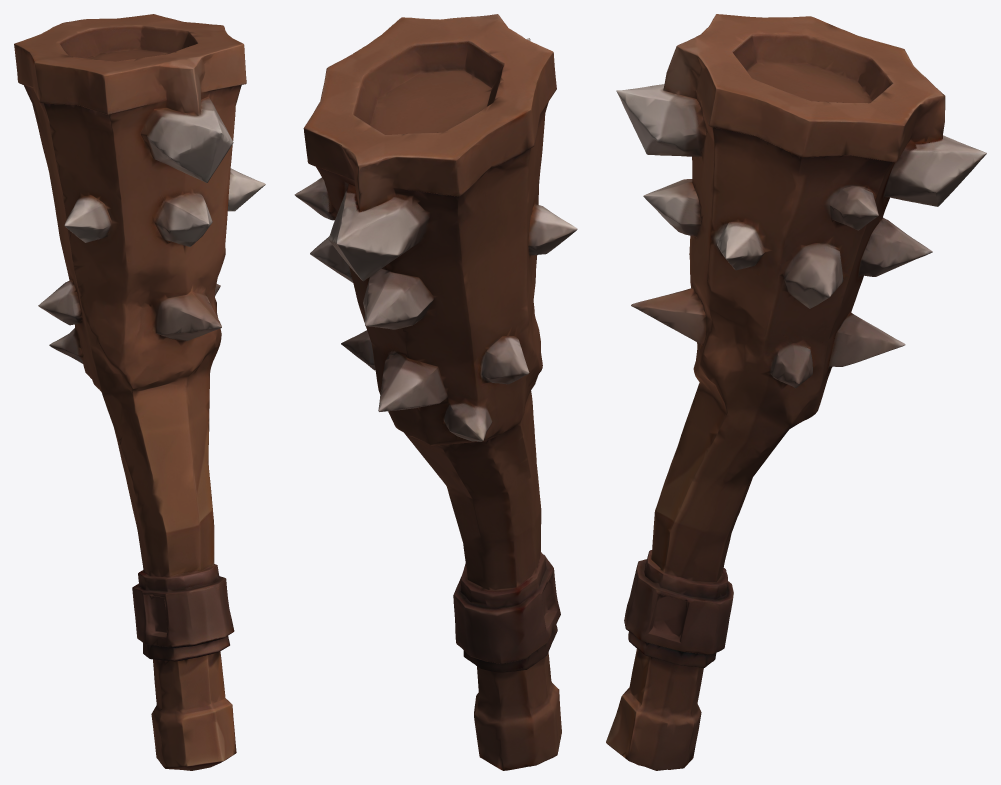
File: orc_spiked_wooden_mace.glb
3 renders of one model, left to right at view 1: azimuth 30°, elevation 25°; view 2: azimuth 150°, elevation 25°; view 3: azimuth 270°, elevation 25°, orthographic. The views are drawn at different scales.
Parts seen in each view (by area): view 1: tripo_node_5f192fc3-1af2-4c79-8a6f-8a1aec2a5afa; view 2: tripo_node_5f192fc3-1af2-4c79-8a6f-8a1aec2a5afa; view 3: tripo_node_5f192fc3-1af2-4c79-8a6f-8a1aec2a5afa.
Boxes of the visible parts, left/top/right/bottom form: tripo_node_5f192fc3-1af2-4c79-8a6f-8a1aec2a5afa: left=14, top=14, right=265, bottom=770; tripo_node_5f192fc3-1af2-4c79-8a6f-8a1aec2a5afa: left=294, top=14, right=577, bottom=770; tripo_node_5f192fc3-1af2-4c79-8a6f-8a1aec2a5afa: left=606, top=14, right=986, bottom=770.
Size of the model in its own units: 0.3028 by 1 by 0.4755.
Materials: 1 (1 with a texture image).
